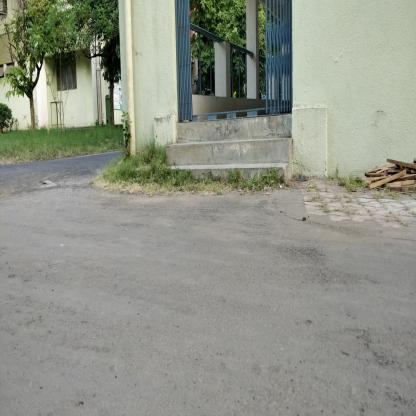stairs: (179, 121, 281, 198)
